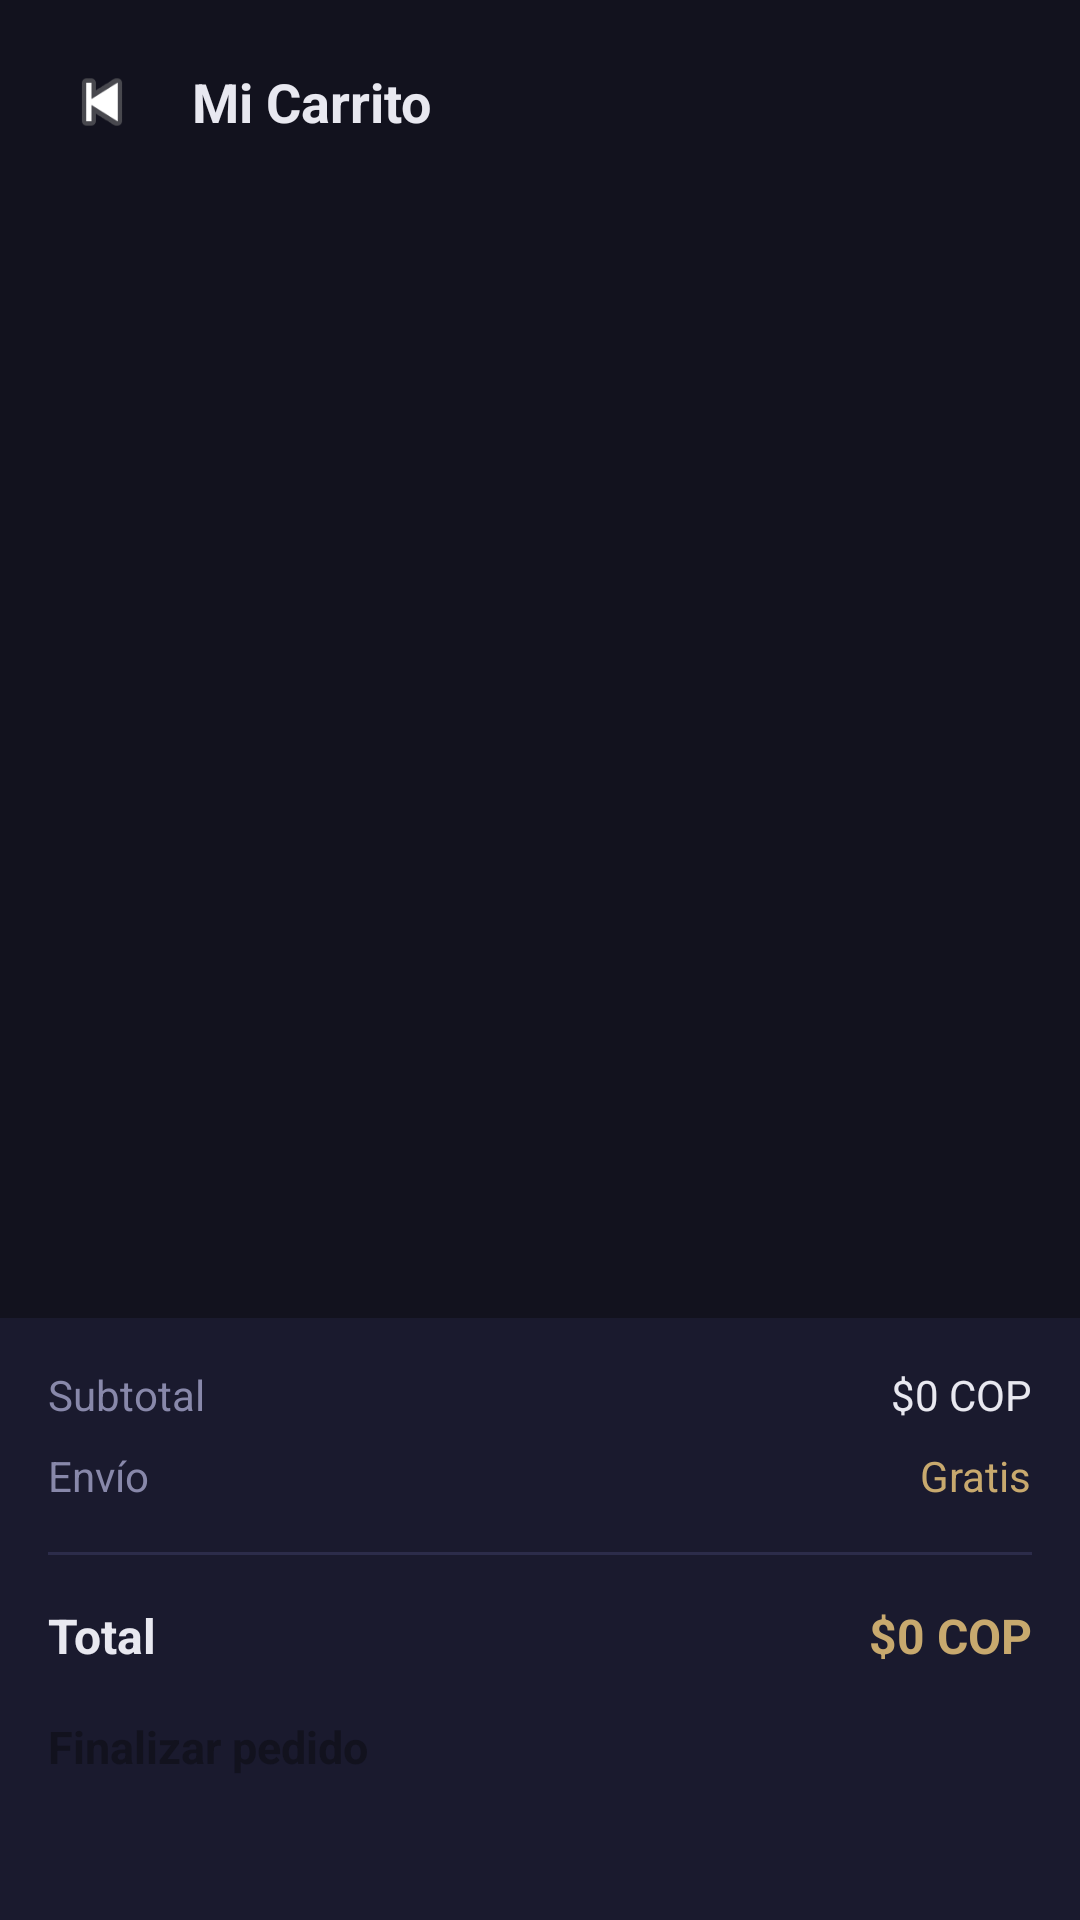

Point at icon controls on the screen. Image size 1080 × 1920, points as (x,y).
previous: (102,102)
